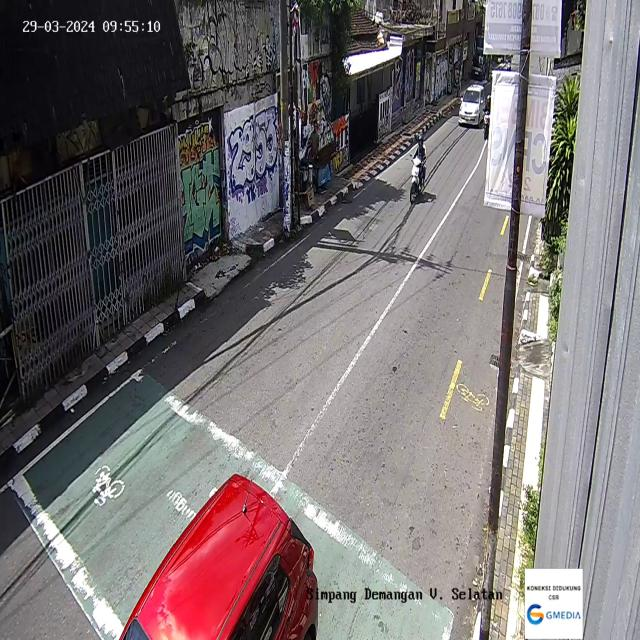car: (119, 473, 318, 639), (458, 83, 486, 127)
motorcycle: (409, 133, 427, 204), (482, 92, 492, 141)
